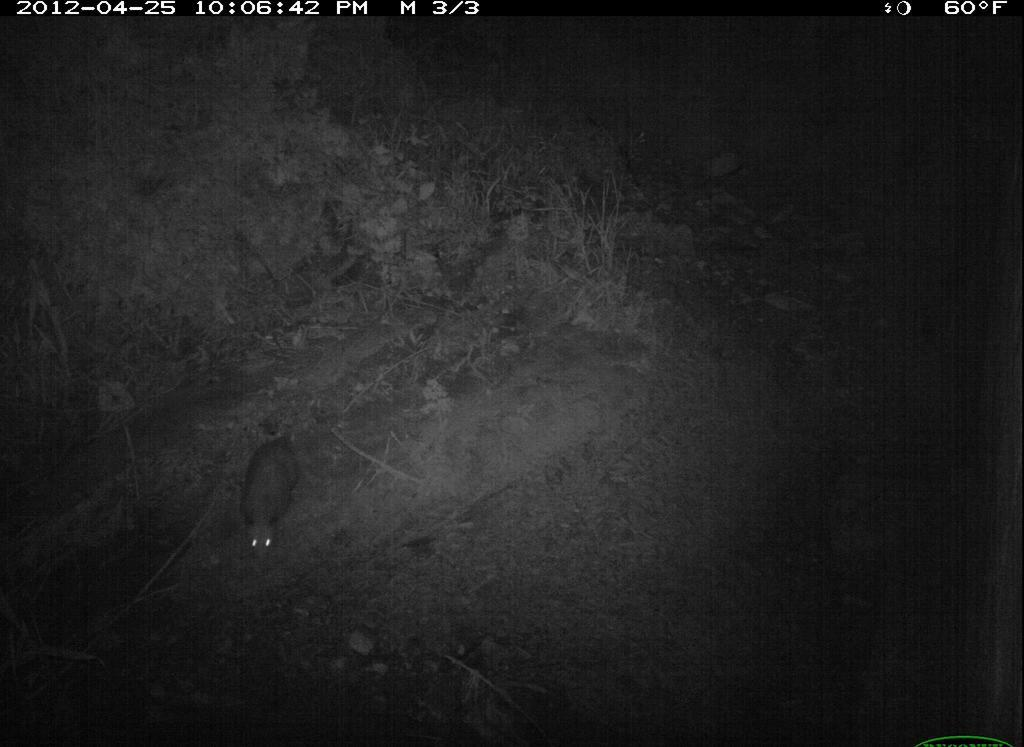opossum: (214, 408, 340, 560)
